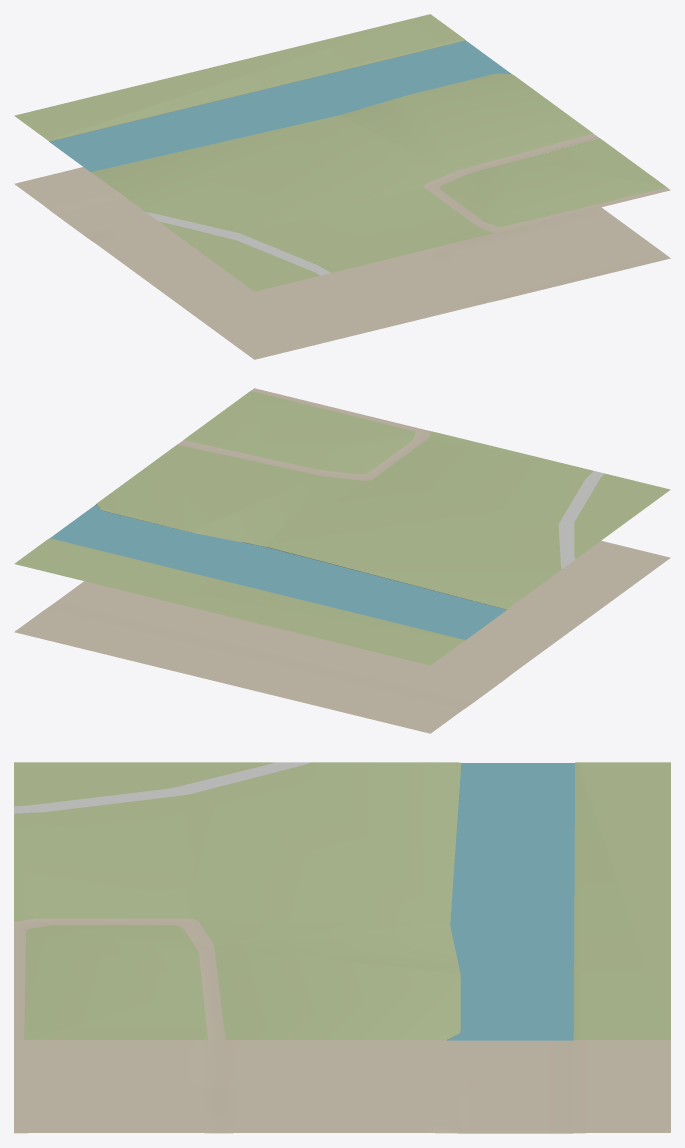
3 views of the same model, one above another, from view 1: azimuth 30°, elevation 25°; view 2: azimuth 150°, elevation 25°; view 3: azimuth 270°, elevation 25° (orthographic). The views are drawn at different scales.
Visible parts, largest first — view 1: s_-5_-7__grass, s_-5_-7__soil, s_-5_-7__water, s_-5_-7__stone_paving; view 2: s_-5_-7__grass, s_-5_-7__soil, s_-5_-7__water, s_-5_-7__stone_paving; view 3: s_-5_-7__grass, s_-5_-7__soil, s_-5_-7__water, s_-5_-7__stone_paving.
Boxes of the visible parts, box(x1,y1,x2,y2) form: s_-5_-7__grass: box(14, 14, 666, 291); s_-5_-7__soil: box(14, 133, 670, 359); s_-5_-7__water: box(49, 40, 511, 171); s_-5_-7__stone_paving: box(146, 212, 330, 275); s_-5_-7__grass: box(14, 391, 670, 665); s_-5_-7__soil: box(14, 388, 670, 733); s_-5_-7__water: box(50, 504, 506, 639); s_-5_-7__stone_paving: box(558, 471, 604, 568); s_-5_-7__grass: box(14, 762, 670, 1040); s_-5_-7__soil: box(14, 918, 670, 1133); s_-5_-7__water: box(447, 763, 574, 1040); s_-5_-7__stone_paving: box(14, 762, 310, 813).
Size of the model in its own units: 128 by 20.14 by 128.
